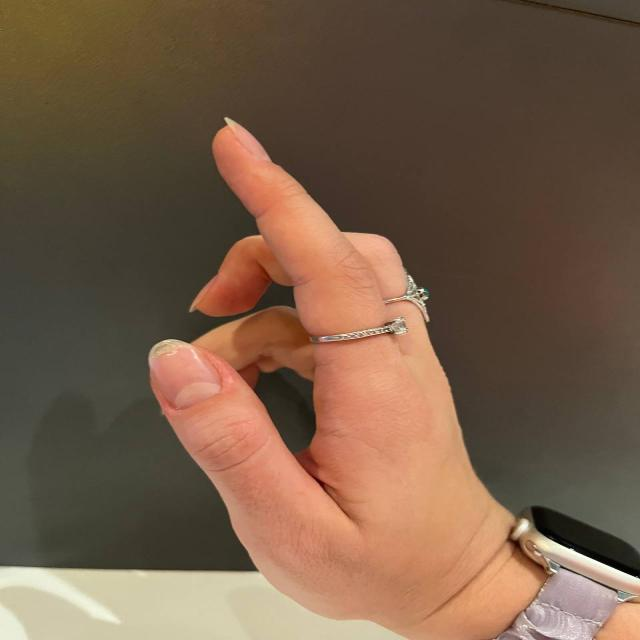b: (129, 118, 478, 555)
